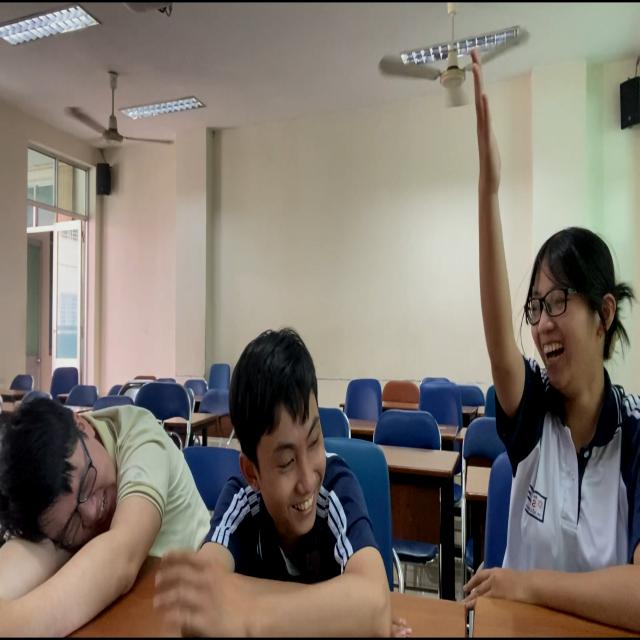raise_hand: (470, 44, 640, 640)
sleep: (1, 370, 204, 640)
